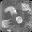people: (5, 6, 17, 16), (1, 19, 11, 27), (16, 16, 23, 24)
